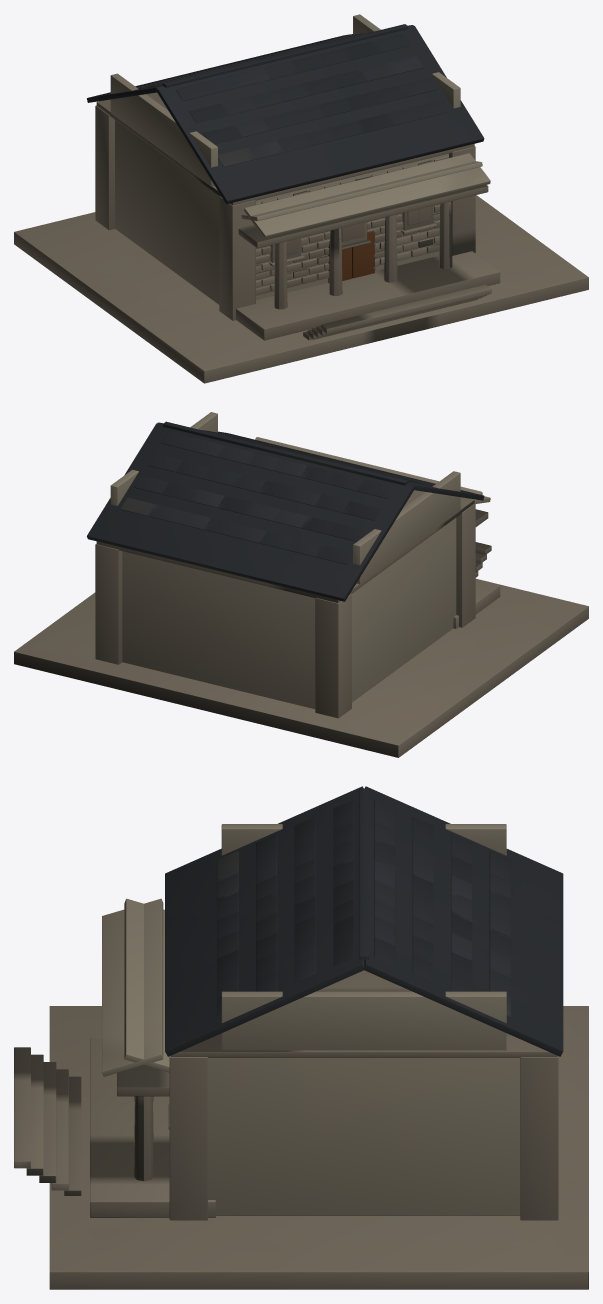
File: building_royal_court.fbx
The picture shows the model from 3 angles, top to bottom: view 1: azimuth 30°, elevation 25°; view 2: azimuth 150°, elevation 25°; view 3: azimuth 270°, elevation 25°; orthographic projection. The views are drawn at different scales.
Visible parts, largest first — view 1: building_royal_court; view 2: building_royal_court; view 3: building_royal_court.
Part boxes in pixels (x1=…): building_royal_court: x1=14, y1=14, x2=588, y2=383; building_royal_court: x1=14, y1=412, x2=588, y2=757; building_royal_court: x1=14, y1=786, x2=588, y2=1289.
Size of the model in its own units: 14 by 6.99 by 12.79.
